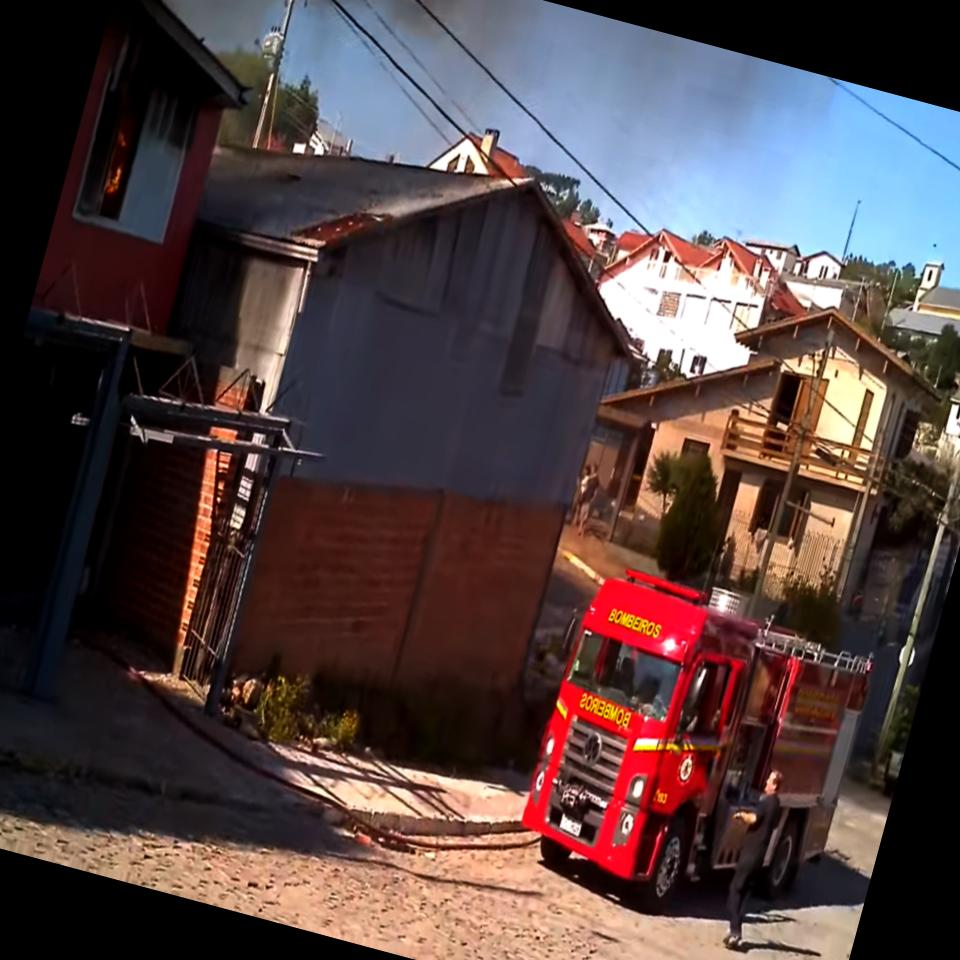viatura: (503, 552, 798, 924)
